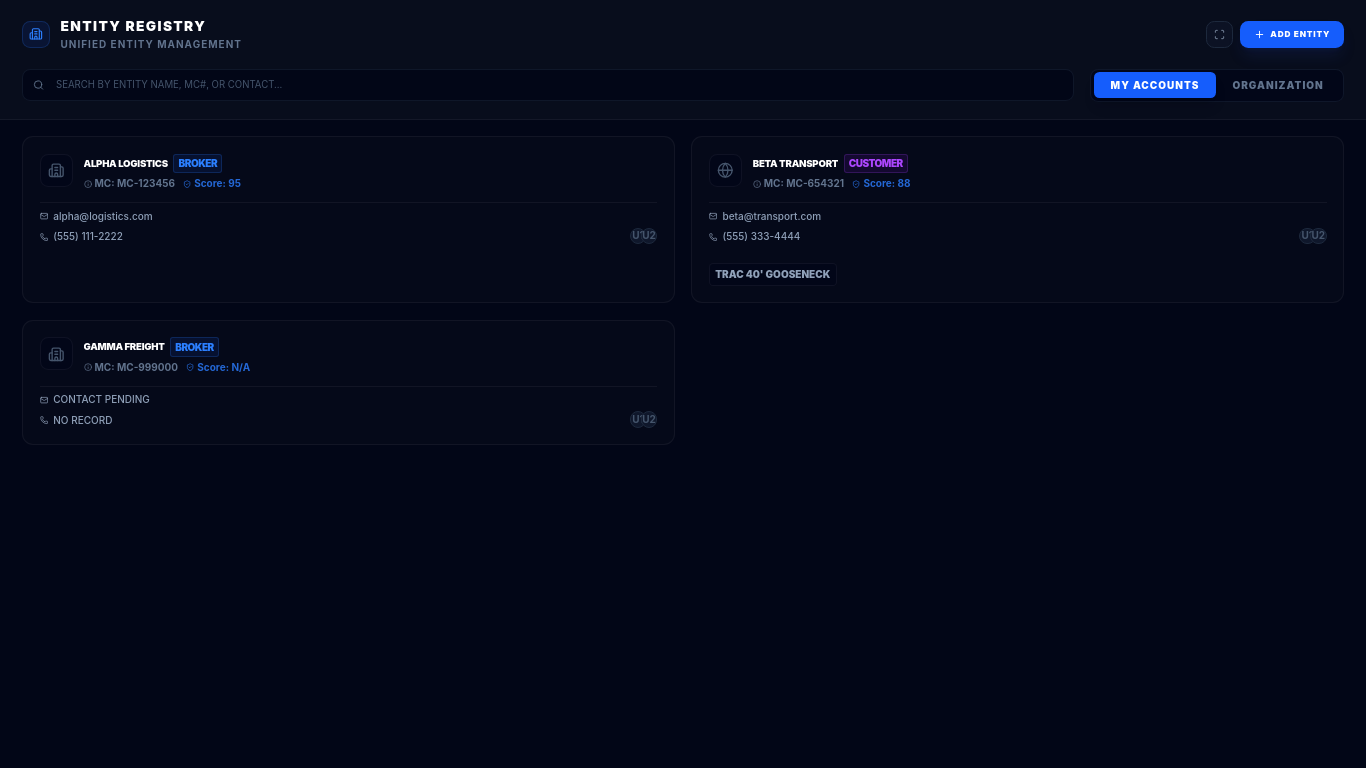
BrokerManager component › add entity form › opens add form when Add Entity is clicked
Click the button "Add Entity" at (1292, 34), box [1240,21,1344,48]
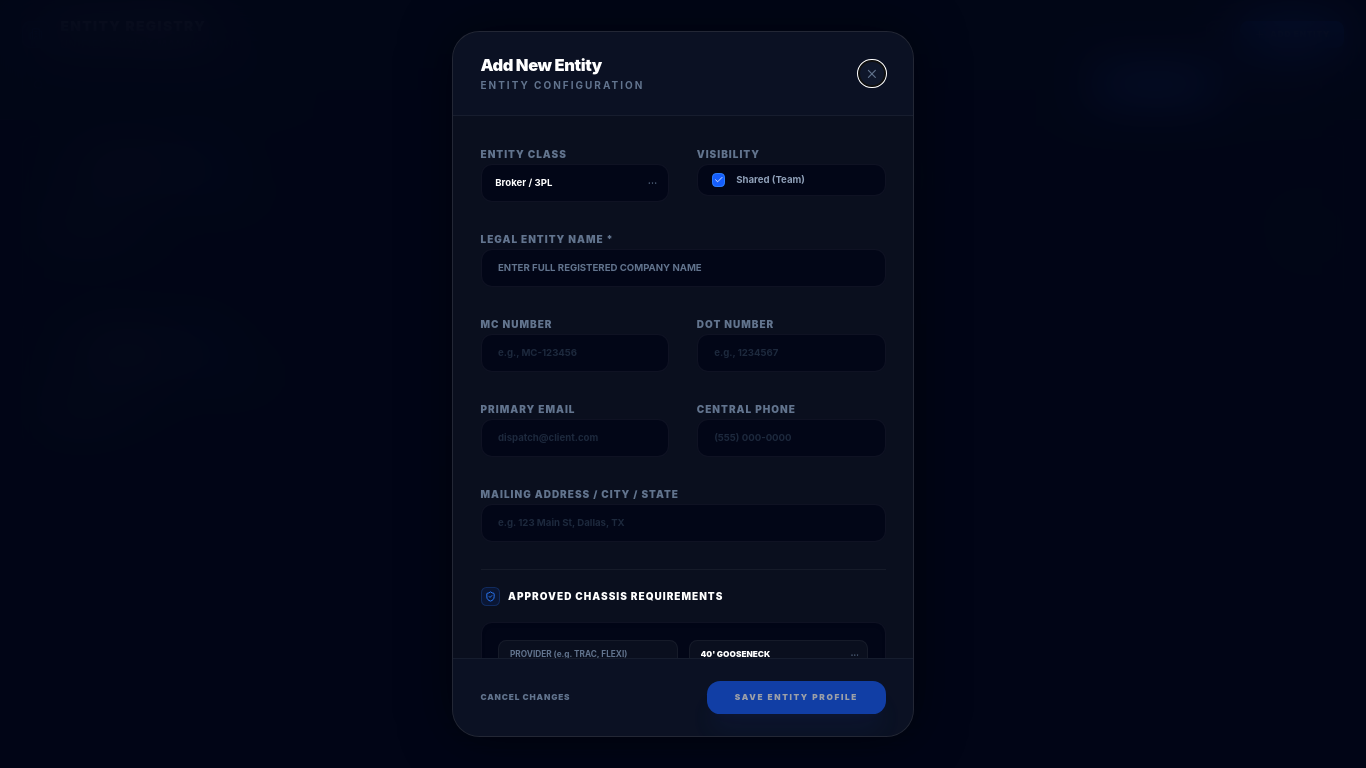
Result: the heading "Add New Entity" is shown at [480,55,602,75]
